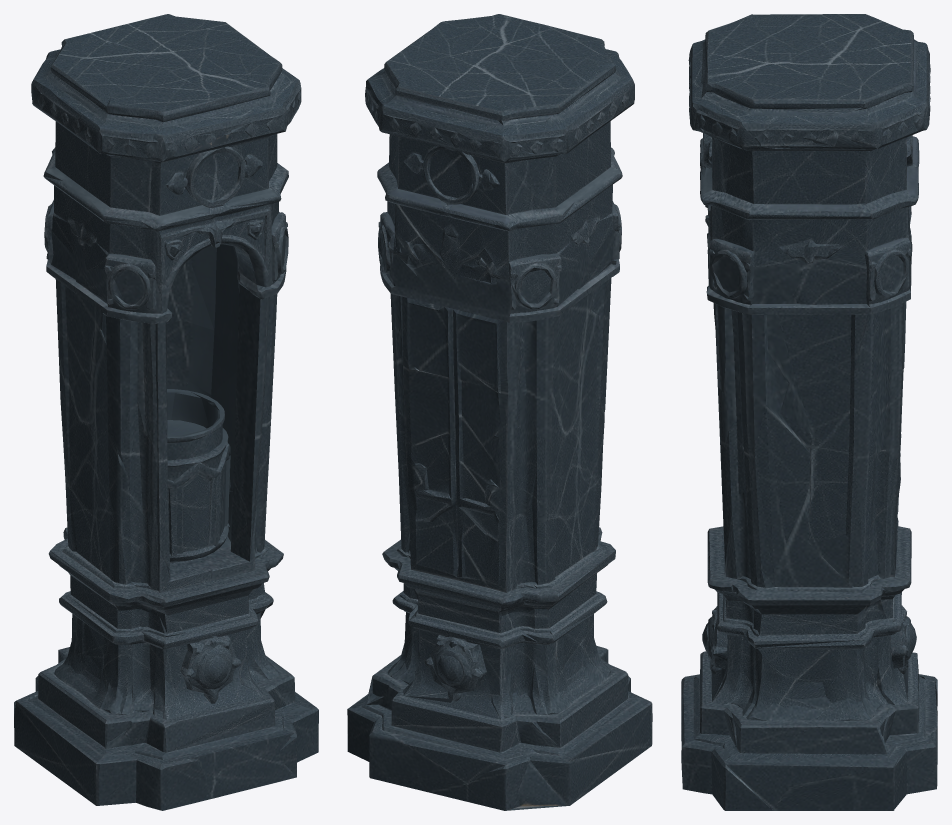
The model's file is core-shrine.glb.
3 renders of one model, left to right at view 1: azimuth 30°, elevation 25°; view 2: azimuth 150°, elevation 25°; view 3: azimuth 270°, elevation 25°, orthographic.
Visible parts, largest first — view 1: mesh_node; view 2: mesh_node; view 3: mesh_node.
Part boxes in pixels (x1=…): mesh_node: x1=14, y1=14, x2=318, y2=810; mesh_node: x1=347, y1=14, x2=652, y2=810; mesh_node: x1=681, y1=14, x2=937, y2=810.
Bounding box in the file's own units: 0.6479 × 1.9 × 0.6324.
Materials: 1 (1 with a texture image).
